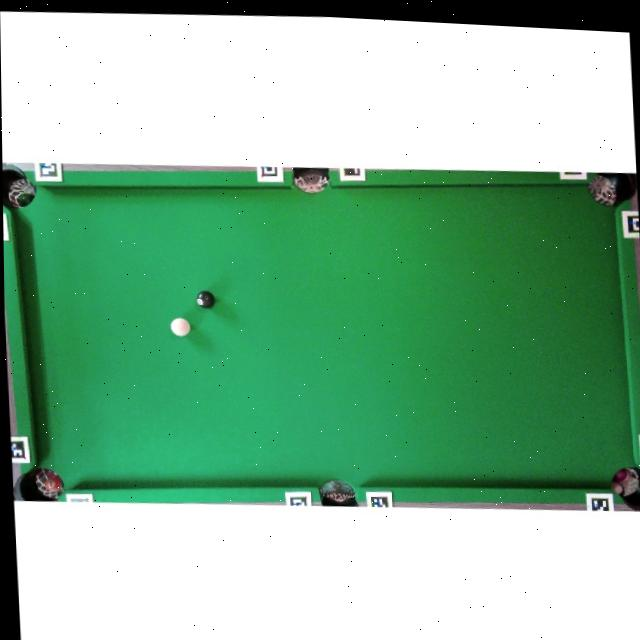cue ball: (170, 316, 191, 337)
other: (196, 289, 215, 309)
